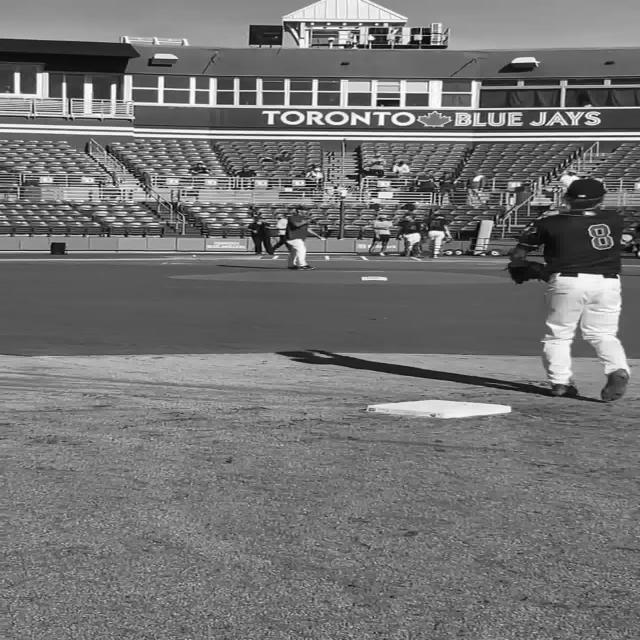base: (367, 400, 511, 419)
baseball_glove: (507, 261, 549, 284)
shoe: (600, 369, 629, 401), (551, 384, 578, 398)
